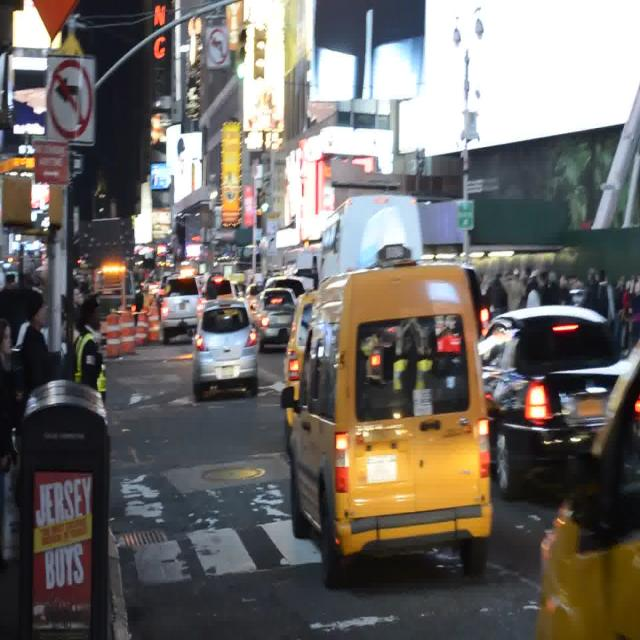Car: (282, 246, 492, 587), (536, 350, 639, 639), (479, 306, 627, 497), (193, 299, 258, 401), (283, 291, 316, 454), (160, 274, 202, 344), (256, 288, 295, 351), (202, 274, 239, 299), (264, 275, 306, 297), (245, 283, 262, 317), (570, 289, 585, 306)
